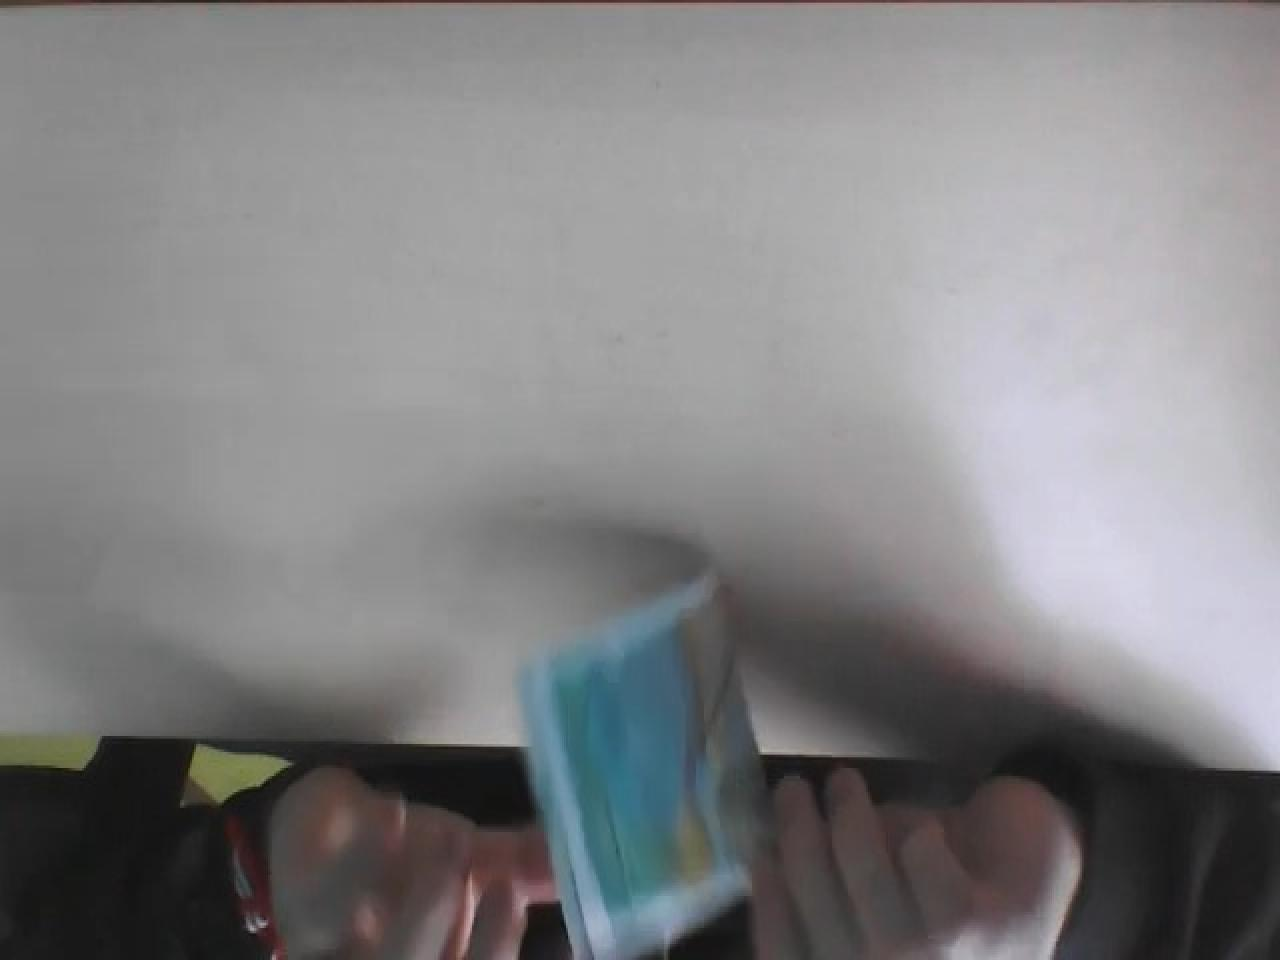100leva: (514, 566, 776, 960)
